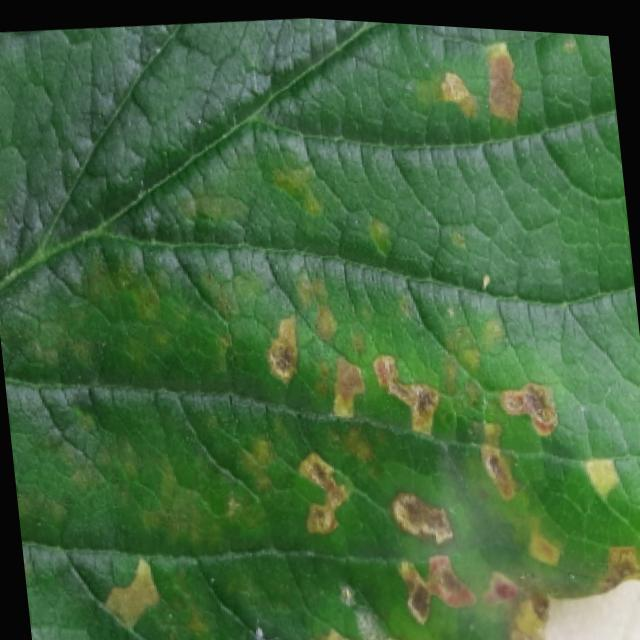Angular Leafspot: (0, 21, 640, 640)
